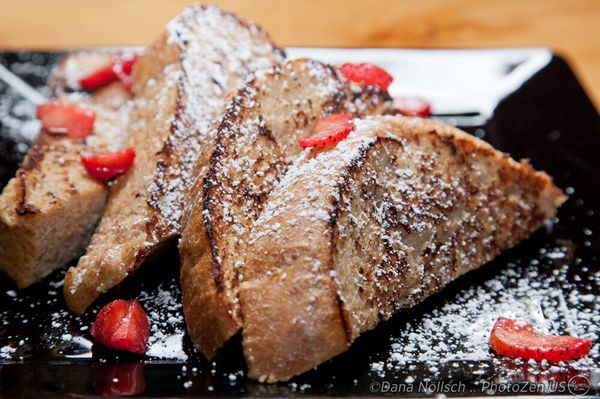sushi: (10, 3, 579, 382)
